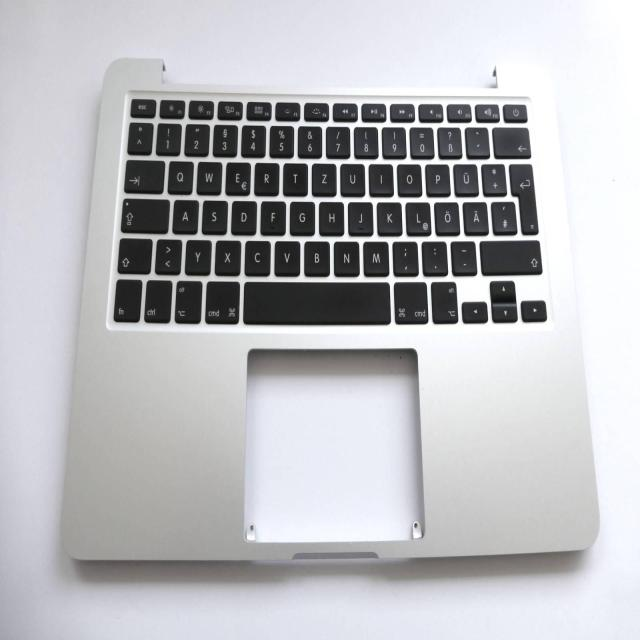0: (408, 124, 434, 157)
1: (154, 120, 180, 153)
2: (183, 121, 209, 154)
3: (211, 122, 237, 155)
4: (240, 122, 265, 155)
5: (268, 123, 293, 156)
6: (296, 123, 321, 156)
7: (325, 124, 350, 156)
8: (352, 124, 378, 157)
9: (380, 124, 406, 157)
a: (171, 196, 198, 232)
accent: (464, 124, 489, 156)
ae: (461, 198, 488, 233)
alt-left: (172, 277, 203, 323)
altgr-right: (429, 279, 458, 323)
b: (302, 238, 329, 274)
c: (242, 237, 270, 274)
caret: (126, 119, 152, 152)
comma: (391, 238, 418, 274)
d: (229, 197, 256, 233)
del: (491, 124, 530, 157)
e: (224, 159, 250, 193)
enter: (507, 160, 537, 232)
f: (259, 198, 284, 233)
g: (288, 198, 314, 233)
h: (317, 198, 343, 233)
hash: (489, 199, 516, 232)
i: (368, 161, 393, 194)
j: (346, 199, 372, 234)
k: (375, 198, 401, 233)
keyboard: (104, 91, 554, 334)
l: (404, 198, 430, 234)
less: (154, 236, 181, 272)
m: (361, 238, 388, 275)
minus: (449, 238, 476, 273)
n: (332, 238, 359, 275)
o: (395, 161, 421, 194)
oe: (432, 199, 459, 233)
p: (424, 161, 449, 194)
plus: (480, 160, 505, 193)
point: (420, 238, 447, 273)
q: (166, 157, 192, 192)
r: (253, 160, 279, 194)
s: (200, 197, 226, 232)
shift-left: (116, 234, 152, 273)
shift-lock: (120, 195, 168, 231)
shift-right: (478, 237, 540, 274)
space: (242, 279, 389, 323)
ss: (436, 124, 461, 156)
strg-left: (143, 277, 172, 323)
t: (281, 160, 307, 193)
tab: (123, 157, 164, 192)
u: (339, 161, 365, 194)
ue: (452, 161, 478, 194)
v: (273, 237, 300, 274)
w: (195, 158, 221, 193)
x: (213, 237, 240, 273)
y: (184, 236, 211, 273)
z: (310, 160, 336, 194)
